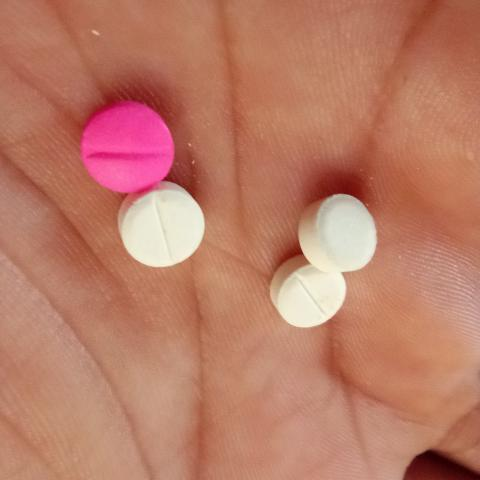Pill: (114, 178, 223, 287), (294, 182, 395, 283), (269, 256, 353, 349)
